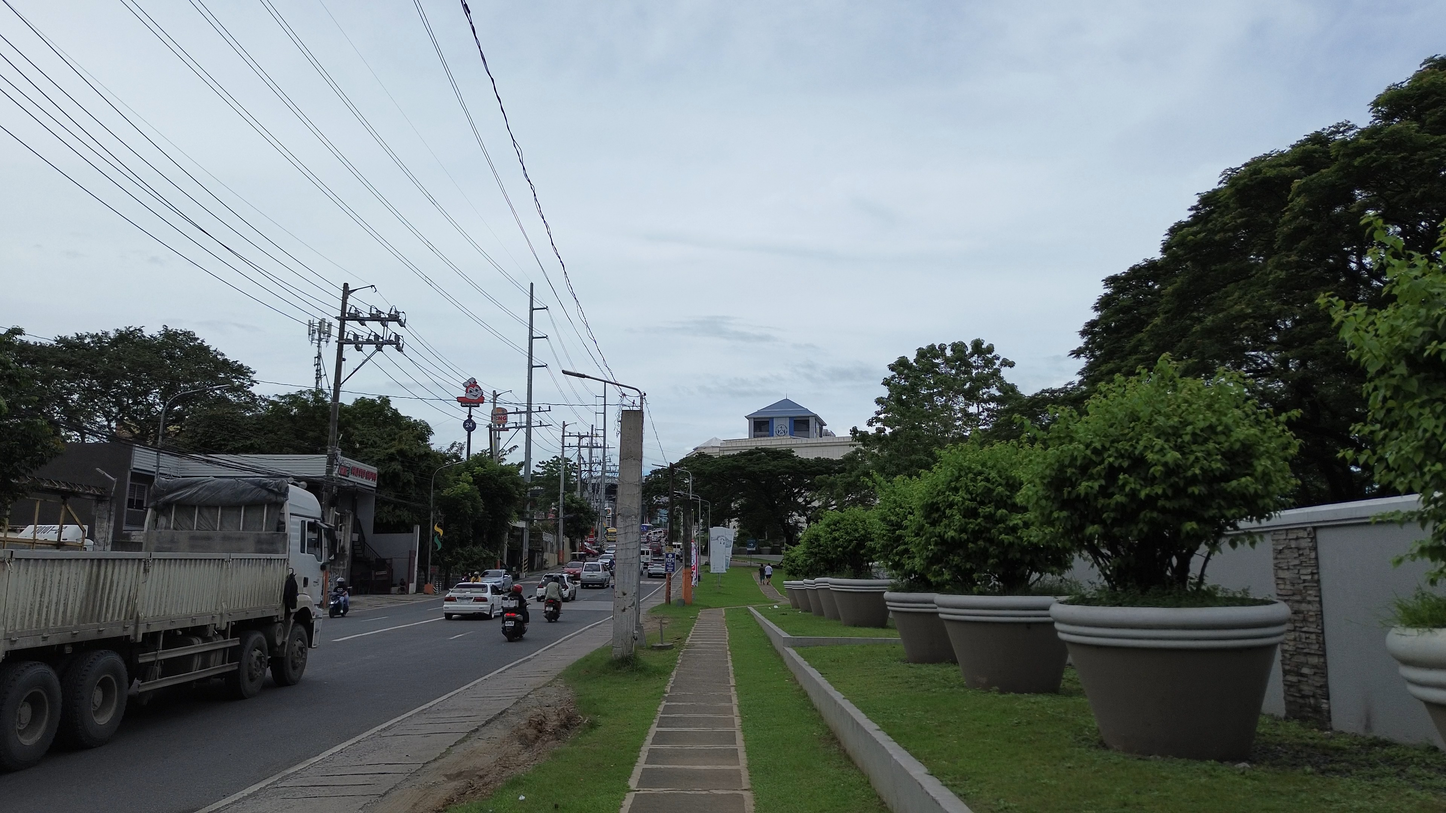car: (534, 573, 579, 601), (480, 570, 513, 592), (563, 559, 584, 576)
motorcycle: (502, 609, 526, 642), (329, 590, 349, 618), (543, 599, 561, 622)
truck: (0, 478, 335, 770)
vehicle: (442, 582, 504, 619), (581, 562, 611, 587), (329, 585, 349, 618), (647, 556, 666, 578), (598, 553, 615, 571)
